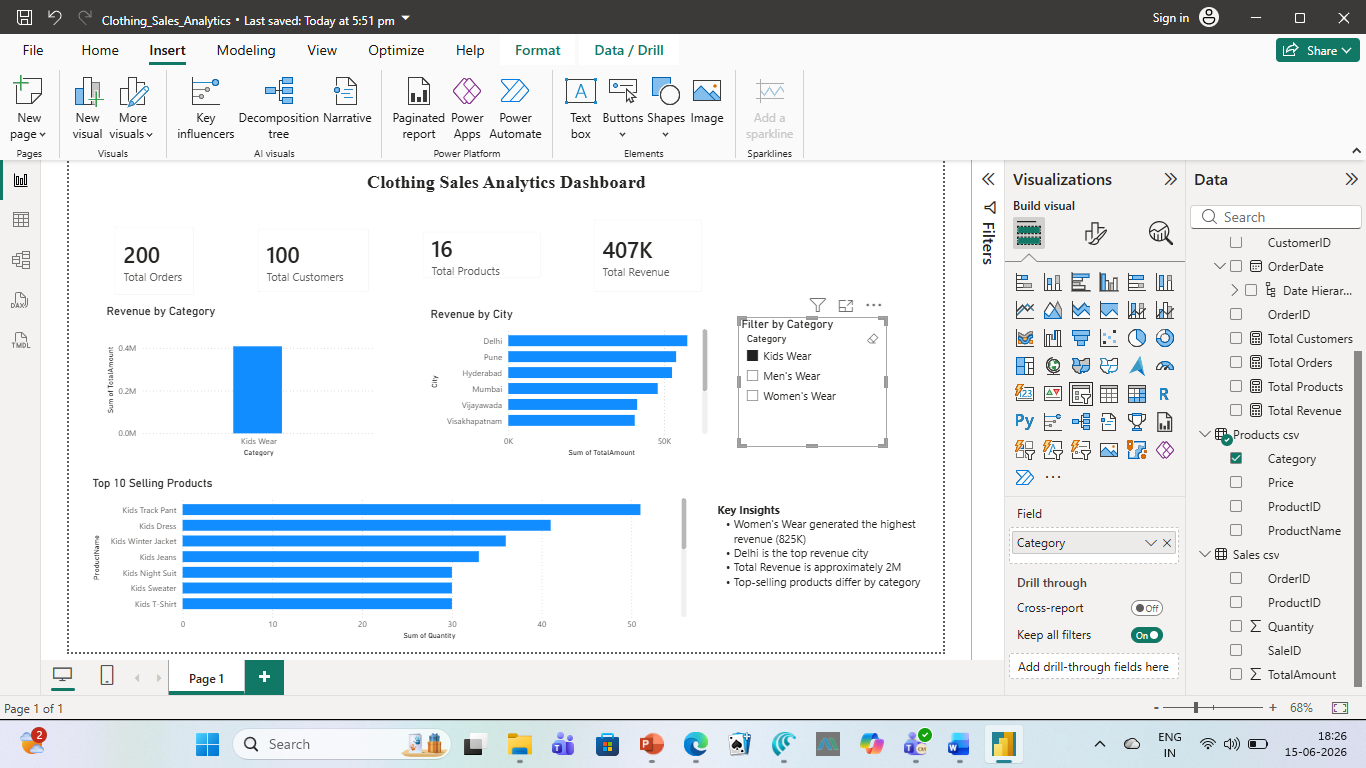

What the dashboard file says about the page in this screenshot:
{"tool":"powerbi","page":{"name":"Page 1","canvas":[1280,720],"ordinal":0},"visuals":[{"type":"cardVisual","fields":{"Data":["Orders csv.Total Customers"]},"box":[181.5,11.7,197.6,127.3],"z":0},{"type":"cardVisual","fields":{"Data":["Orders csv.Total Orders"]},"box":[16.1,10.2,150.7,134.6],"z":1000},{"type":"cardVisual","fields":{"Data":["Orders csv.Total Products"]},"box":[379,24.9,207.8,102.4],"z":2000},{"type":"cardVisual","fields":{"Data":["Orders csv.Total Revenue"]},"box":[600,0,193.2,140.5],"z":3000},{"type":"clusteredColumnChart","title":"Revenue by Category","fields":{"Category":["Products csv.Category"],"Y":["Sum(Sales csv.TotalAmount)"]},"box":[16.1,139,456.6,256.1],"z":4000},{"type":"clusteredBarChart","title":"Revenue by City","fields":{"Category":["customers csv.City"],"Y":["Sum(Sales csv.TotalAmount)"]},"box":[513.7,134.6,466.8,260.5],"z":4001},{"type":"clusteredBarChart","title":"Top 10 Selling Products","fields":{"Category":["Products csv.ProductName"],"Y":["Sum(Sales csv.Quantity)"]},"box":[29.3,405.4,1109.3,295.6],"z":4002},{"type":"slicer","fields":{"Values":["Products csv.Category"]},"box":[1028.8,111.2,218,283.9],"z":4003}]}

Visuals, with their boxes on the page's 1280x720 design canvas (x1, y1, x2, y2). These are canvas units, not pixel positions in the 1366x768 screenshot, which may show the page scaled, cropped or inside an application window:
cardVisual - Orders csv.Total Customers: select_region(182, 12, 379, 139)
cardVisual - Orders csv.Total Orders: select_region(16, 10, 167, 145)
cardVisual - Orders csv.Total Products: select_region(379, 25, 587, 127)
cardVisual - Orders csv.Total Revenue: select_region(600, 0, 793, 140)
"Revenue by Category" clusteredColumnChart: select_region(16, 139, 473, 395)
"Revenue by City" clusteredBarChart: select_region(514, 135, 980, 395)
"Top 10 Selling Products" clusteredBarChart: select_region(29, 405, 1139, 701)
slicer - Products csv.Category: select_region(1029, 111, 1247, 395)
